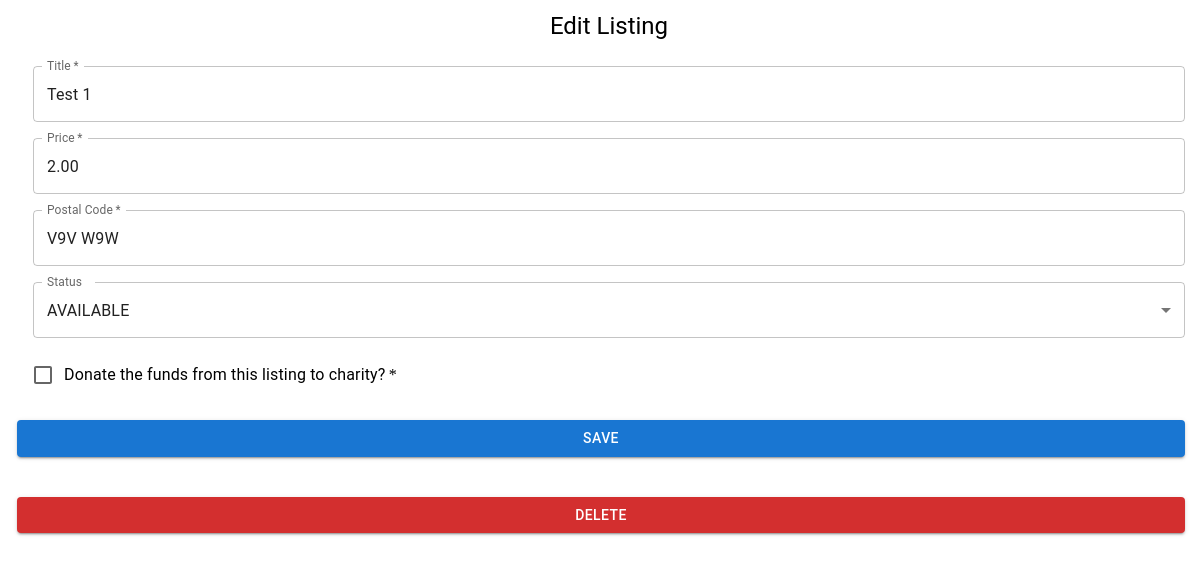
Test: ManageListing page › validation on an empty price
Step 1. Clear the field labelled "Price *" → (609, 166), box [33,138,1185,194]
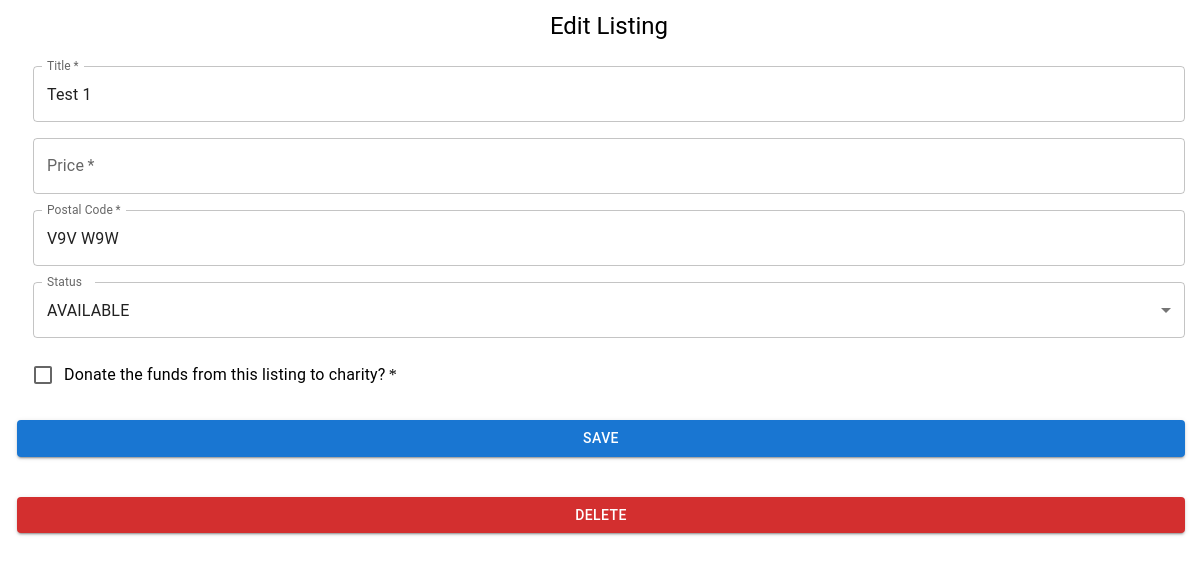
Step 2. Leave the field labelled "Price *", box [33,138,1185,194]
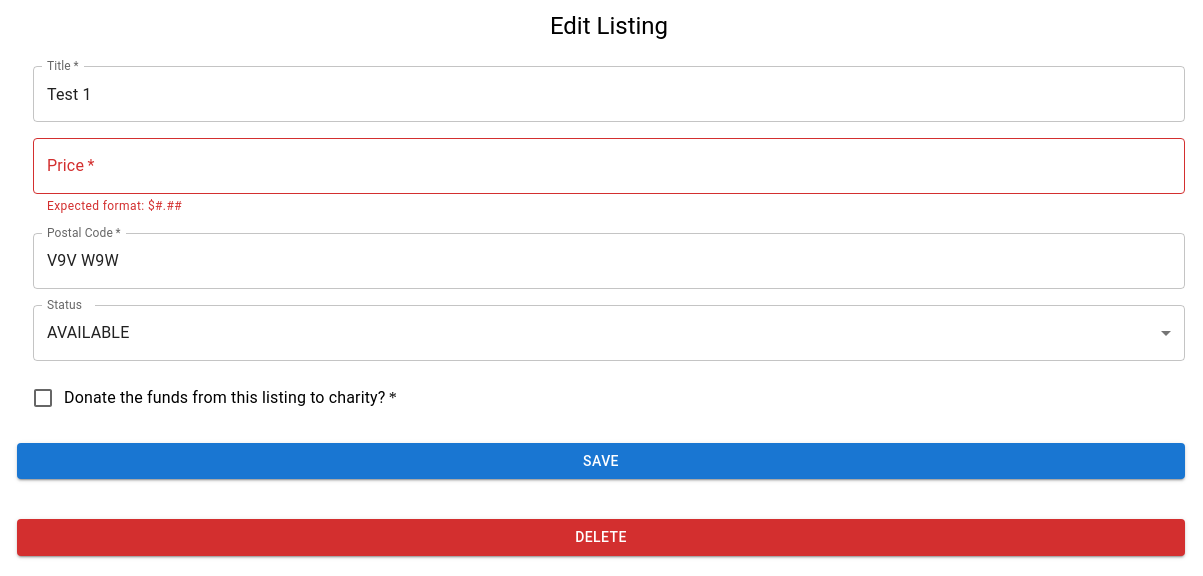
Expected: the text "Expected format: $#.##" is shown, [47,199,182,213]
